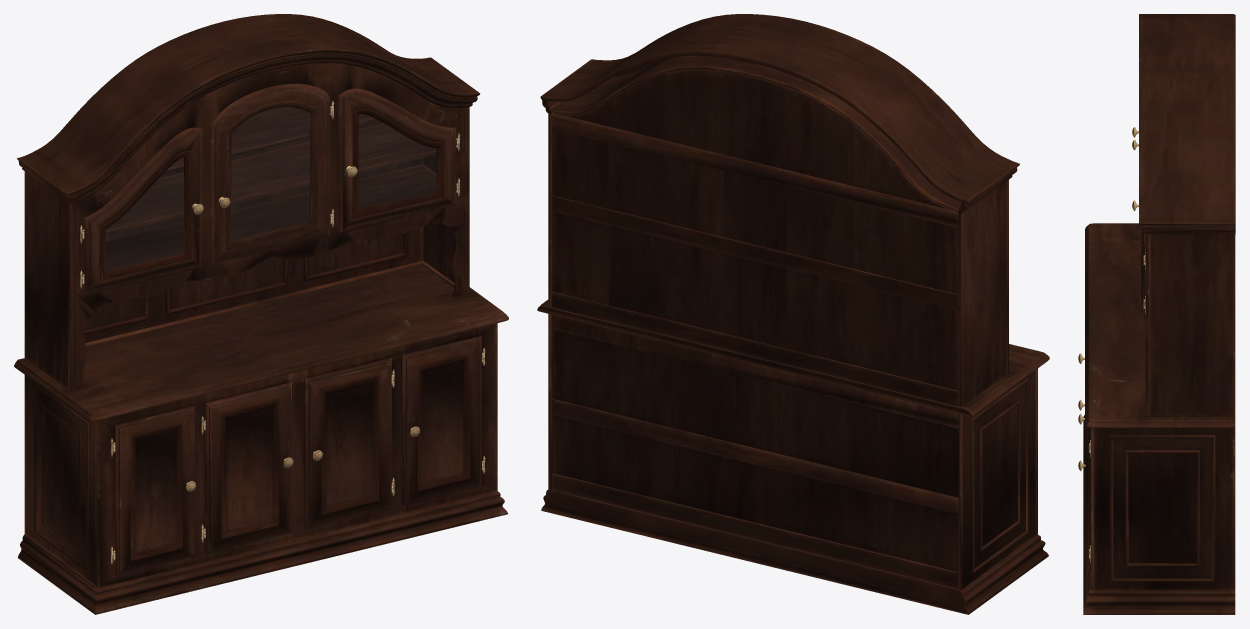
The model's file is vintage_cabinet_01.glb.
The picture shows the model from 3 angles, left to right: view 1: azimuth 30°, elevation 25°; view 2: azimuth 150°, elevation 25°; view 3: azimuth 270°, elevation 25°; orthographic projection. The views are drawn at different scales.
Visible parts, largest first — view 1: vintage_cabinet_01_body, vintage_cabinet_01_door_03, vintage_cabinet_01_door_01, vintage_cabinet_01_door_04, vintage_cabinet_01_door_07, vintage_cabinet_01_door_06, vintage_cabinet_01_door_05, vintage_cabinet_01_door_02; view 2: vintage_cabinet_01_body; view 3: vintage_cabinet_01_body, vintage_cabinet_01_door_02, vintage_cabinet_01_door_04.
Boxes of the visible parts, x1,y1,x2,y2 form: vintage_cabinet_01_body: (14, 14, 508, 614); vintage_cabinet_01_door_03: (210, 83, 332, 264); vintage_cabinet_01_door_01: (82, 127, 203, 295); vintage_cabinet_01_door_04: (338, 88, 458, 233); vintage_cabinet_01_door_07: (304, 357, 392, 529); vintage_cabinet_01_door_06: (204, 382, 293, 553); vintage_cabinet_01_door_05: (113, 406, 195, 575); vintage_cabinet_01_door_02: (402, 335, 483, 505); vintage_cabinet_01_body: (537, 14, 1049, 614); vintage_cabinet_01_body: (1083, 14, 1235, 614); vintage_cabinet_01_door_02: (1078, 427, 1090, 572); vintage_cabinet_01_door_04: (1132, 200, 1145, 319).
Bounding box in the file's own units: 2.02 × 2.24 × 0.6698.
3 materials, 2 textured.
